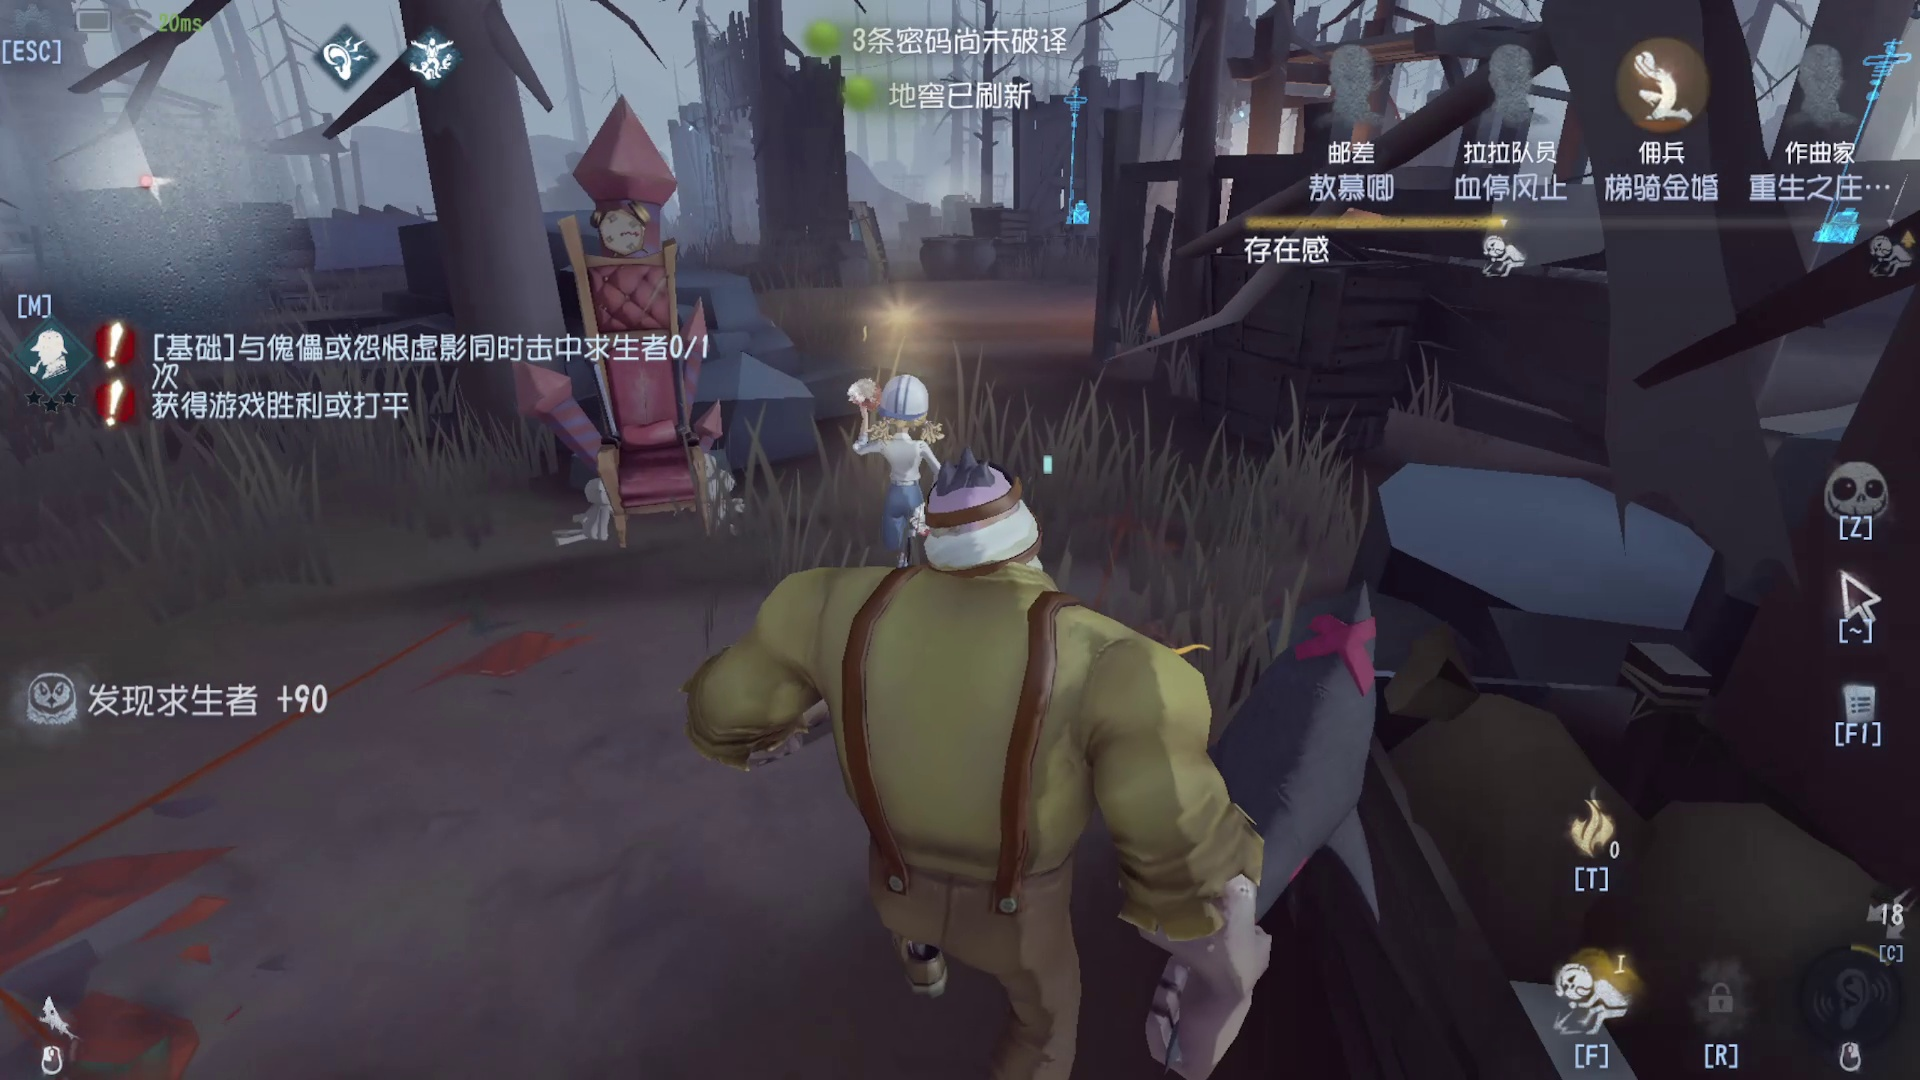密码机: (1830, 28, 1907, 255), (1042, 63, 1127, 262)
木板: (841, 179, 911, 293)
求生者: (818, 327, 963, 563)
狂欢之椅: (506, 117, 761, 558)
脚印: (94, 597, 632, 1054)
